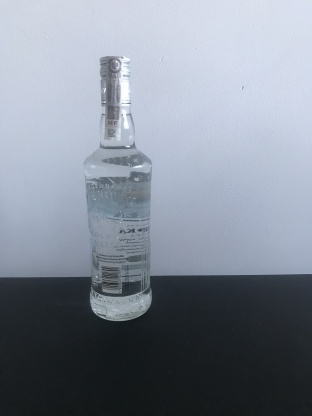nakretka: (97, 51, 133, 110)
